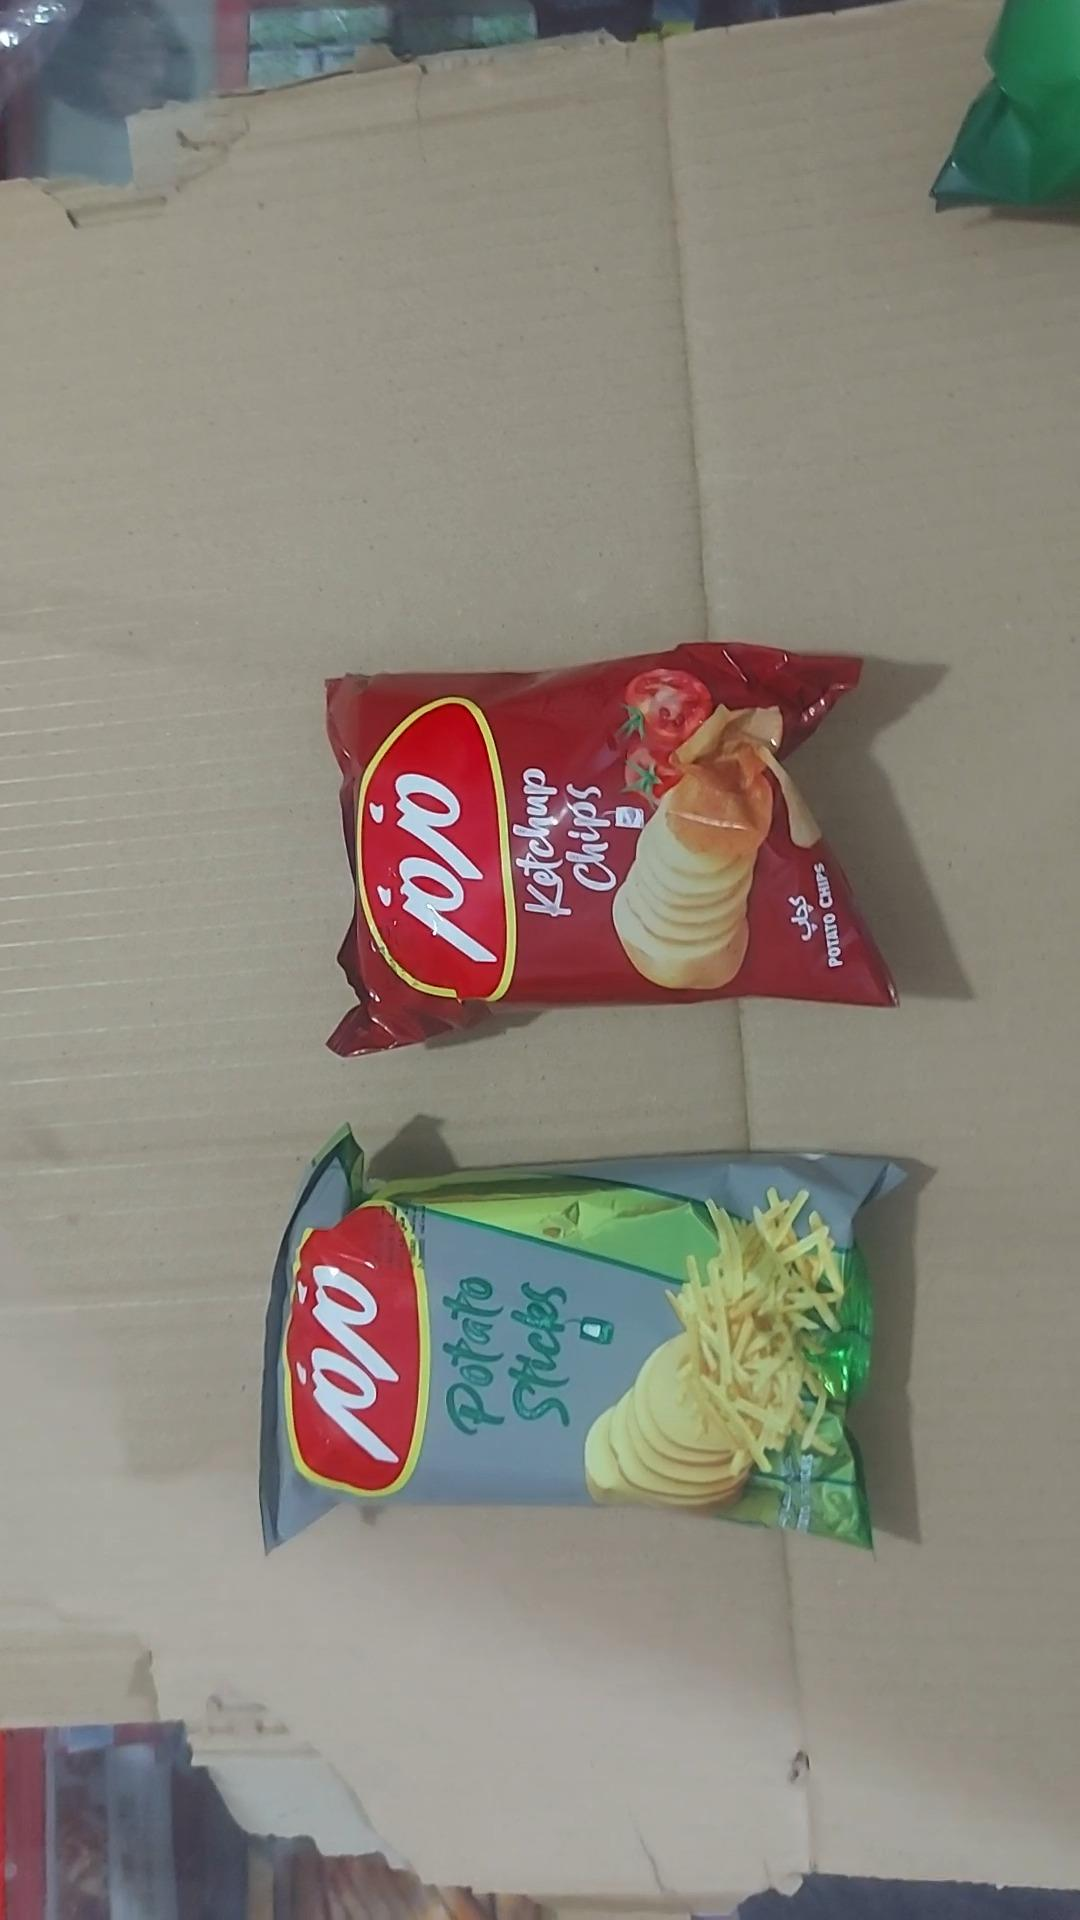Maz Maz ketchup chips: (324, 642, 897, 1056)
Maz Maz potato sticks: (258, 1124, 913, 1556)
